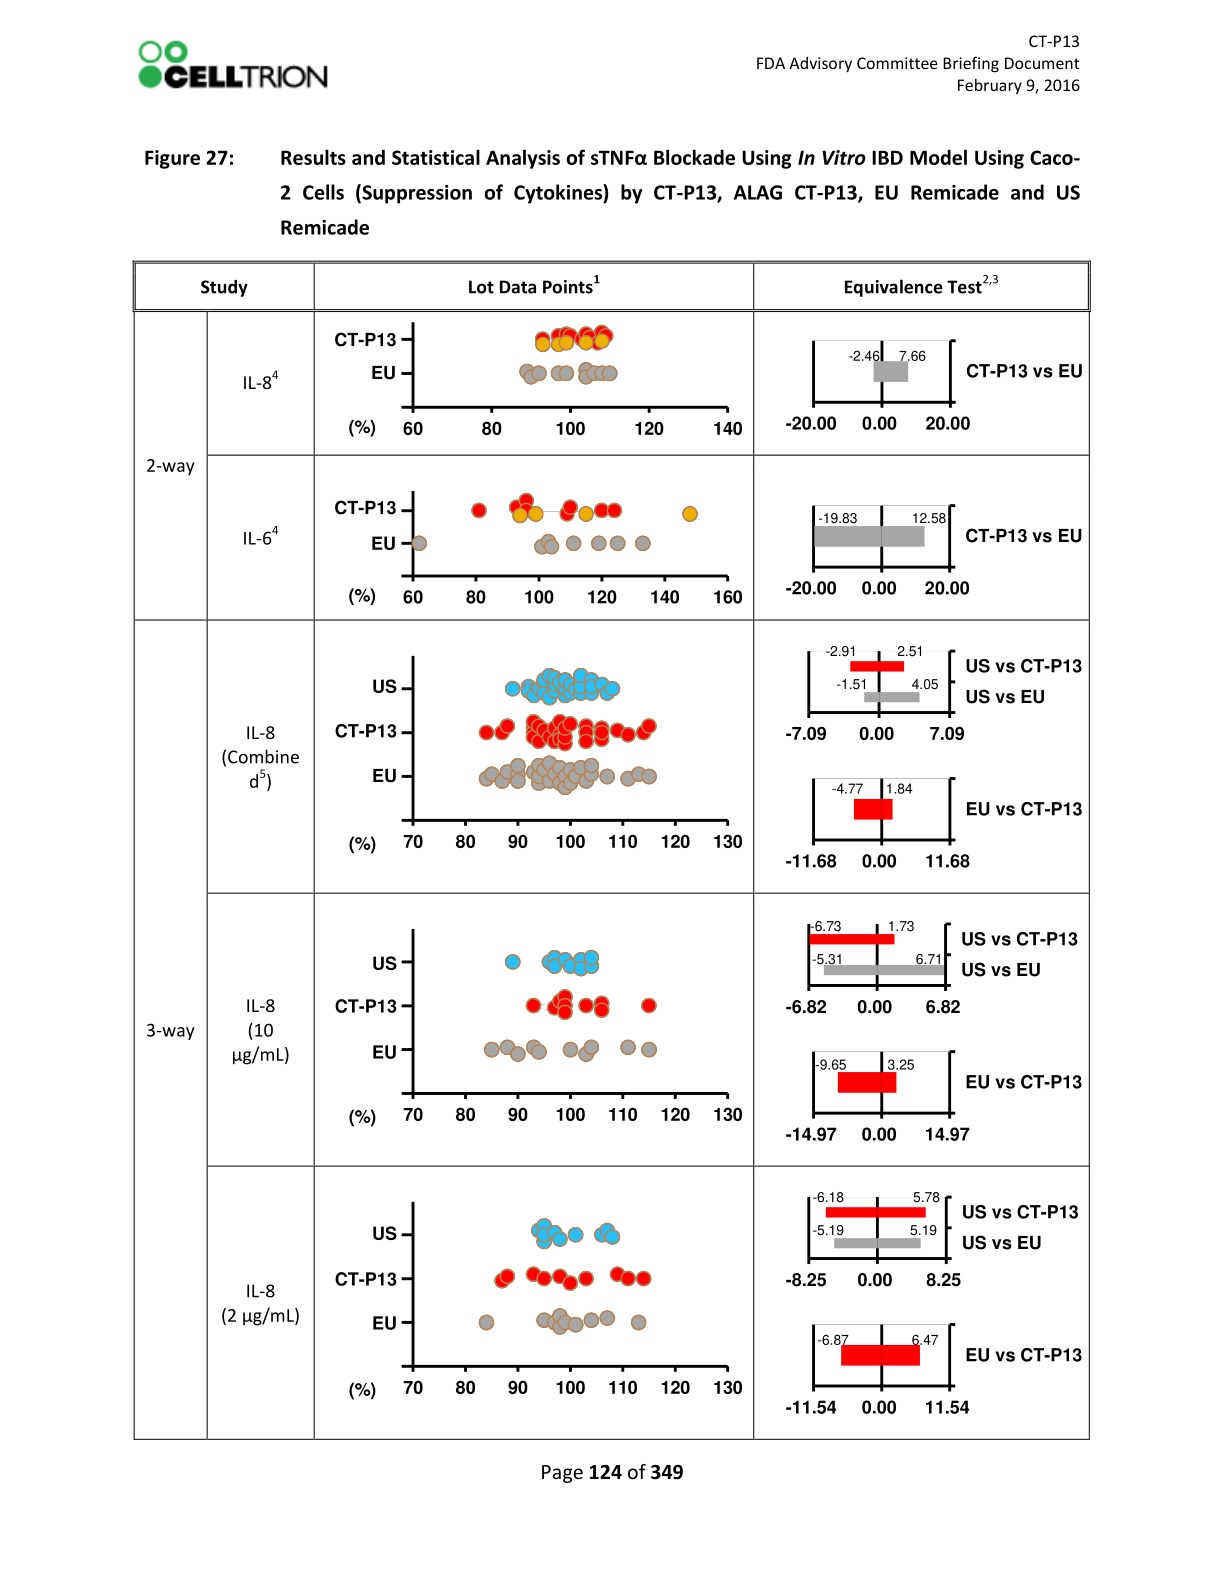merged_cells: (131, 258, 1090, 1441)
